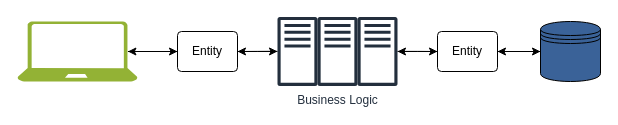
The diagram is 618 pixels wide and 125 high, and some of its shapes have lost their labels. The shapes that lost their labels are listed below. From the top down, each one's centre as x and y in pixels, then its label:
the point at 77,51: Frontend
the point at 570,51: Database
